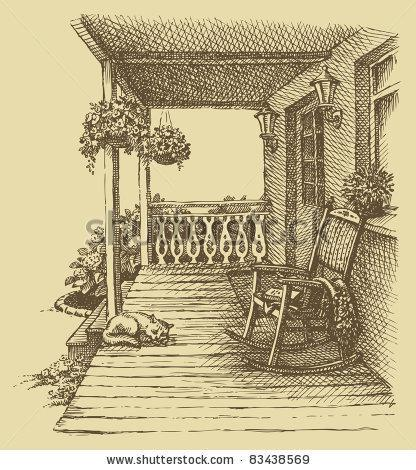cat: (104, 307, 173, 351)
chair: (219, 192, 370, 379)
pottedplant: (75, 96, 153, 159), (337, 164, 392, 220), (145, 126, 190, 175)
